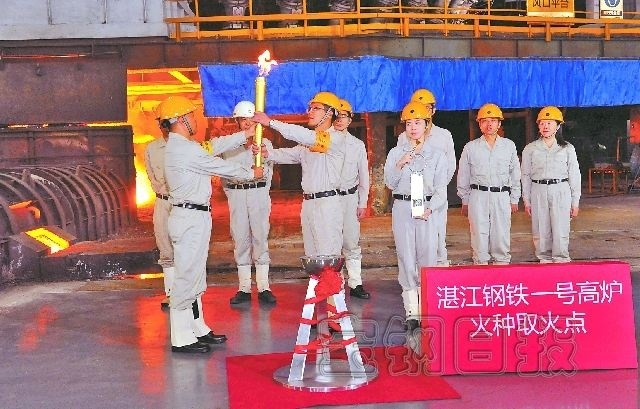fire: (253, 45, 274, 73)
